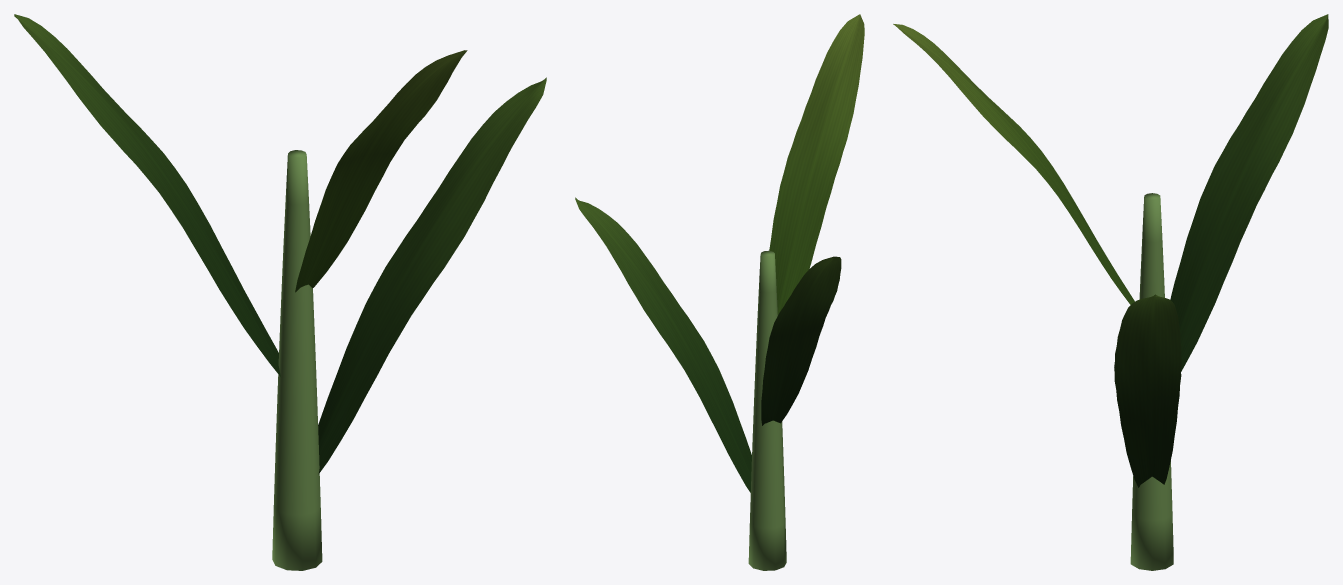
The model's file is iris-02.glb.
3 renders of one model, left to right at view 1: azimuth 30°, elevation 25°; view 2: azimuth 150°, elevation 25°; view 3: azimuth 270°, elevation 25°, orthographic. The views are drawn at different scales.
Visible parts, largest first — view 1: iris_stage_02_leaf_veins.002, iris_stage_02_stem_fibres.002, iris_stage_02_young_leaf.002; view 2: iris_stage_02_leaf_veins.002, iris_stage_02_young_leaf.002, iris_stage_02_stem_fibres.002; view 3: iris_stage_02_leaf_veins.002, iris_stage_02_stem_fibres.002, iris_stage_02_young_leaf.002.
Boxes of the visible parts, <box> form: iris_stage_02_leaf_veins.002: <box>14,14,546,474</box>; iris_stage_02_stem_fibres.002: <box>272,150,322,570</box>; iris_stage_02_young_leaf.002: <box>295,50,467,292</box>; iris_stage_02_leaf_veins.002: <box>575,197,841,492</box>; iris_stage_02_young_leaf.002: <box>769,14,864,314</box>; iris_stage_02_stem_fibres.002: <box>748,250,786,570</box>; iris_stage_02_leaf_veins.002: <box>1114,14,1328,487</box>; iris_stage_02_stem_fibres.002: <box>1130,193,1173,570</box>; iris_stage_02_young_leaf.002: <box>893,24,1134,304</box>.
Size of the model in its own units: 0.0799 by 0.1068 by 0.077.
Materials: 3 (2 with a texture image).
